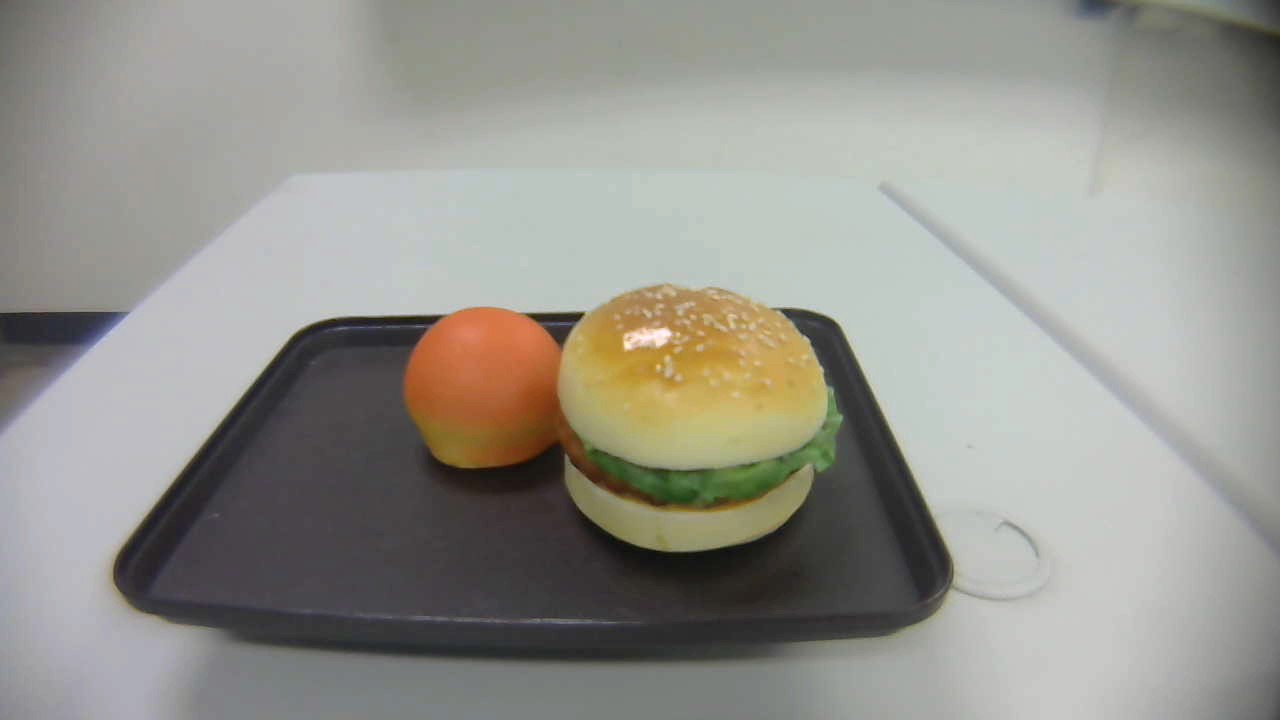bun: (404, 307, 561, 468)
hamburger: (559, 282, 844, 555)
